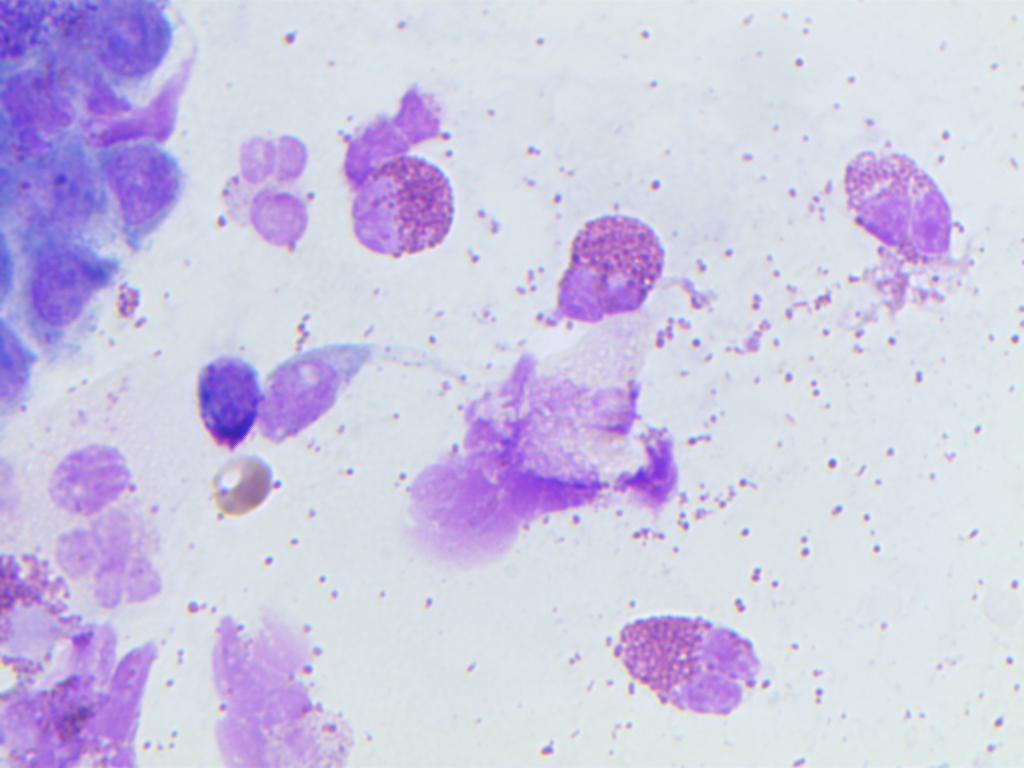artifact: (448, 379, 700, 512), (0, 638, 182, 768), (216, 613, 356, 768), (410, 464, 521, 570), (199, 453, 277, 518)
eosinophil: (607, 596, 772, 732), (837, 138, 974, 288), (534, 199, 665, 341), (324, 144, 454, 274), (0, 537, 74, 683)
epithelial: (257, 311, 398, 459), (23, 231, 122, 347), (31, 422, 138, 525), (178, 327, 260, 461), (98, 134, 193, 246), (85, 1, 187, 84)
neutrophil: (205, 122, 319, 262), (37, 522, 187, 628)
